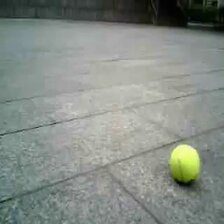tennis: (169, 145, 199, 179)
